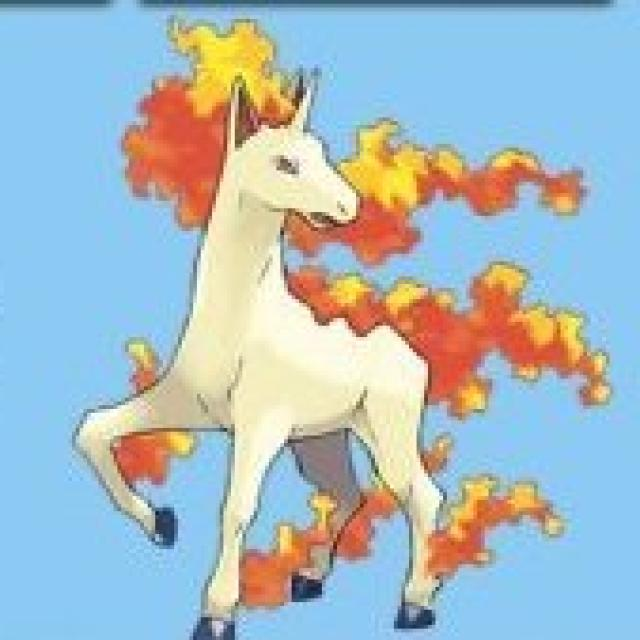Rapidash: (136, 61, 457, 631)
